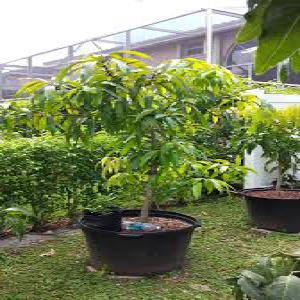Tree: (25, 48, 257, 272)
